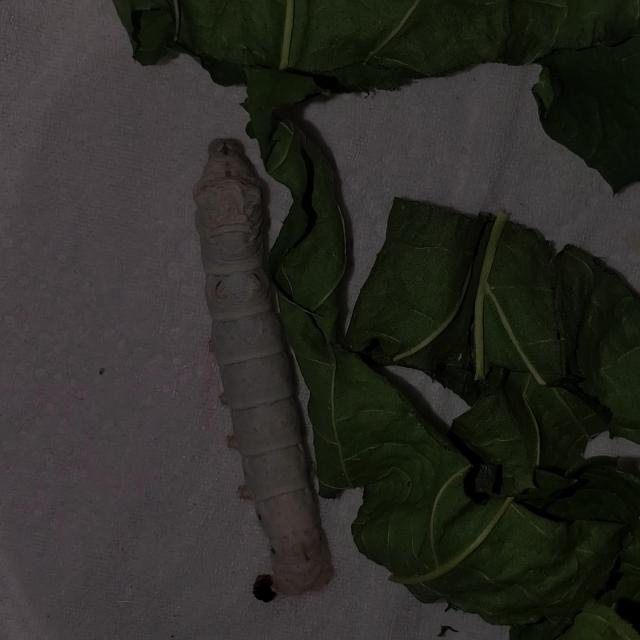Healthy: (181, 130, 352, 601)
